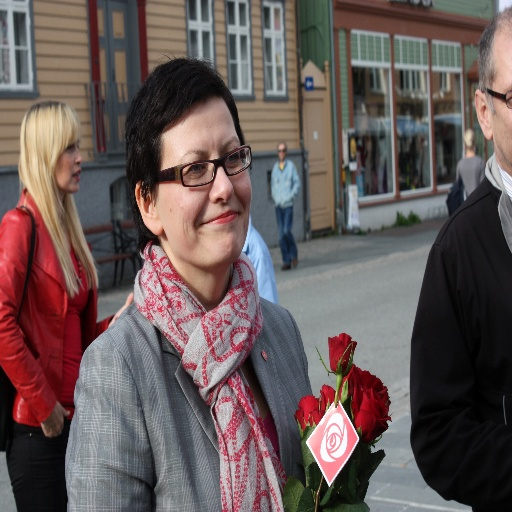hand: (40, 401, 69, 437), (107, 291, 133, 328)
